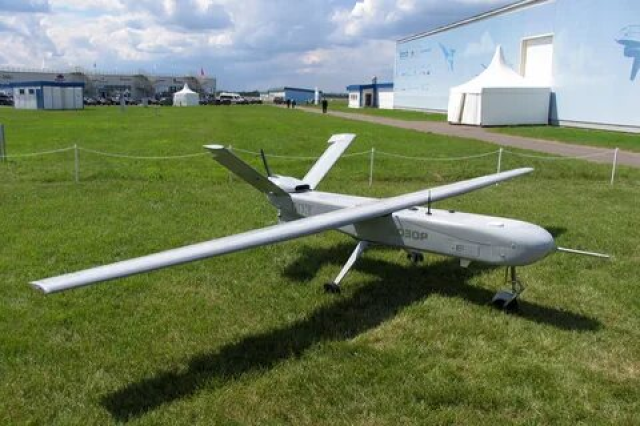military drone: (27, 133, 610, 295)
